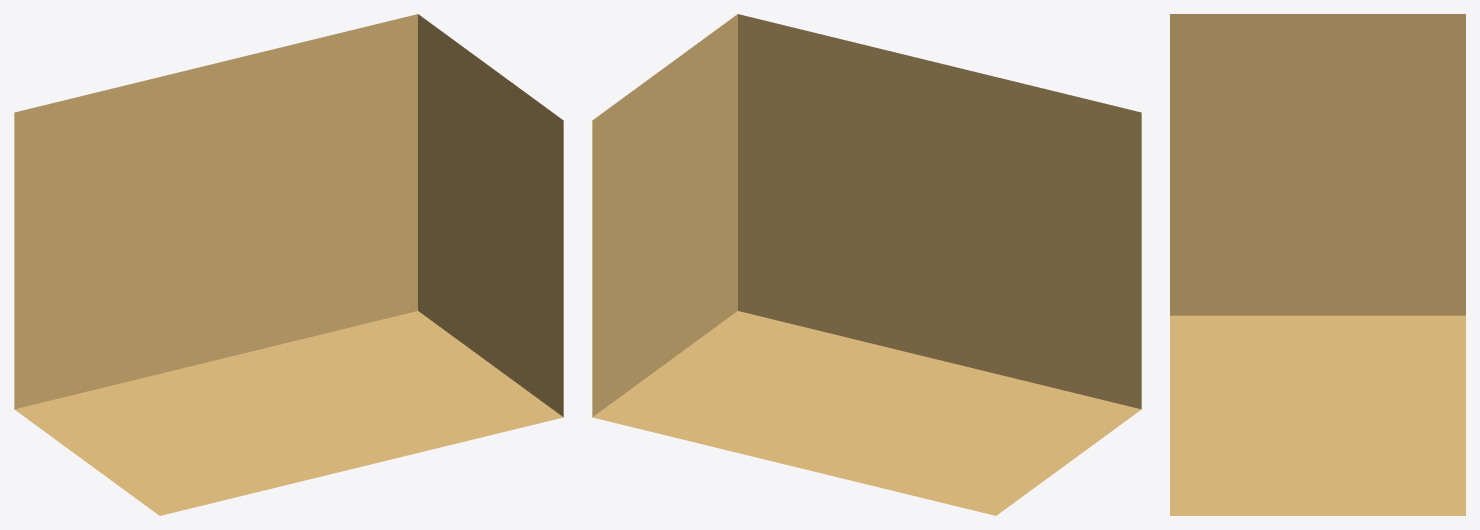
Rendered from ai-outputs-hemant-samwat-008.glb.
3 renders of one model, left to right at view 1: azimuth 30°, elevation 25°; view 2: azimuth 150°, elevation 25°; view 3: azimuth 270°, elevation 25°, orthographic.
Visible parts, largest first — view 1: Hemant Samwat AI Outputs; view 2: Hemant Samwat AI Outputs; view 3: Hemant Samwat AI Outputs.
Part boxes in pixels (x1=…): Hemant Samwat AI Outputs: x1=14, y1=14, x2=563, y2=515; Hemant Samwat AI Outputs: x1=592, y1=14, x2=1141, y2=515; Hemant Samwat AI Outputs: x1=1170, y1=14, x2=1465, y2=515.
Bounding box in the file's own units: 2.05 × 1.44 × 1.28.
